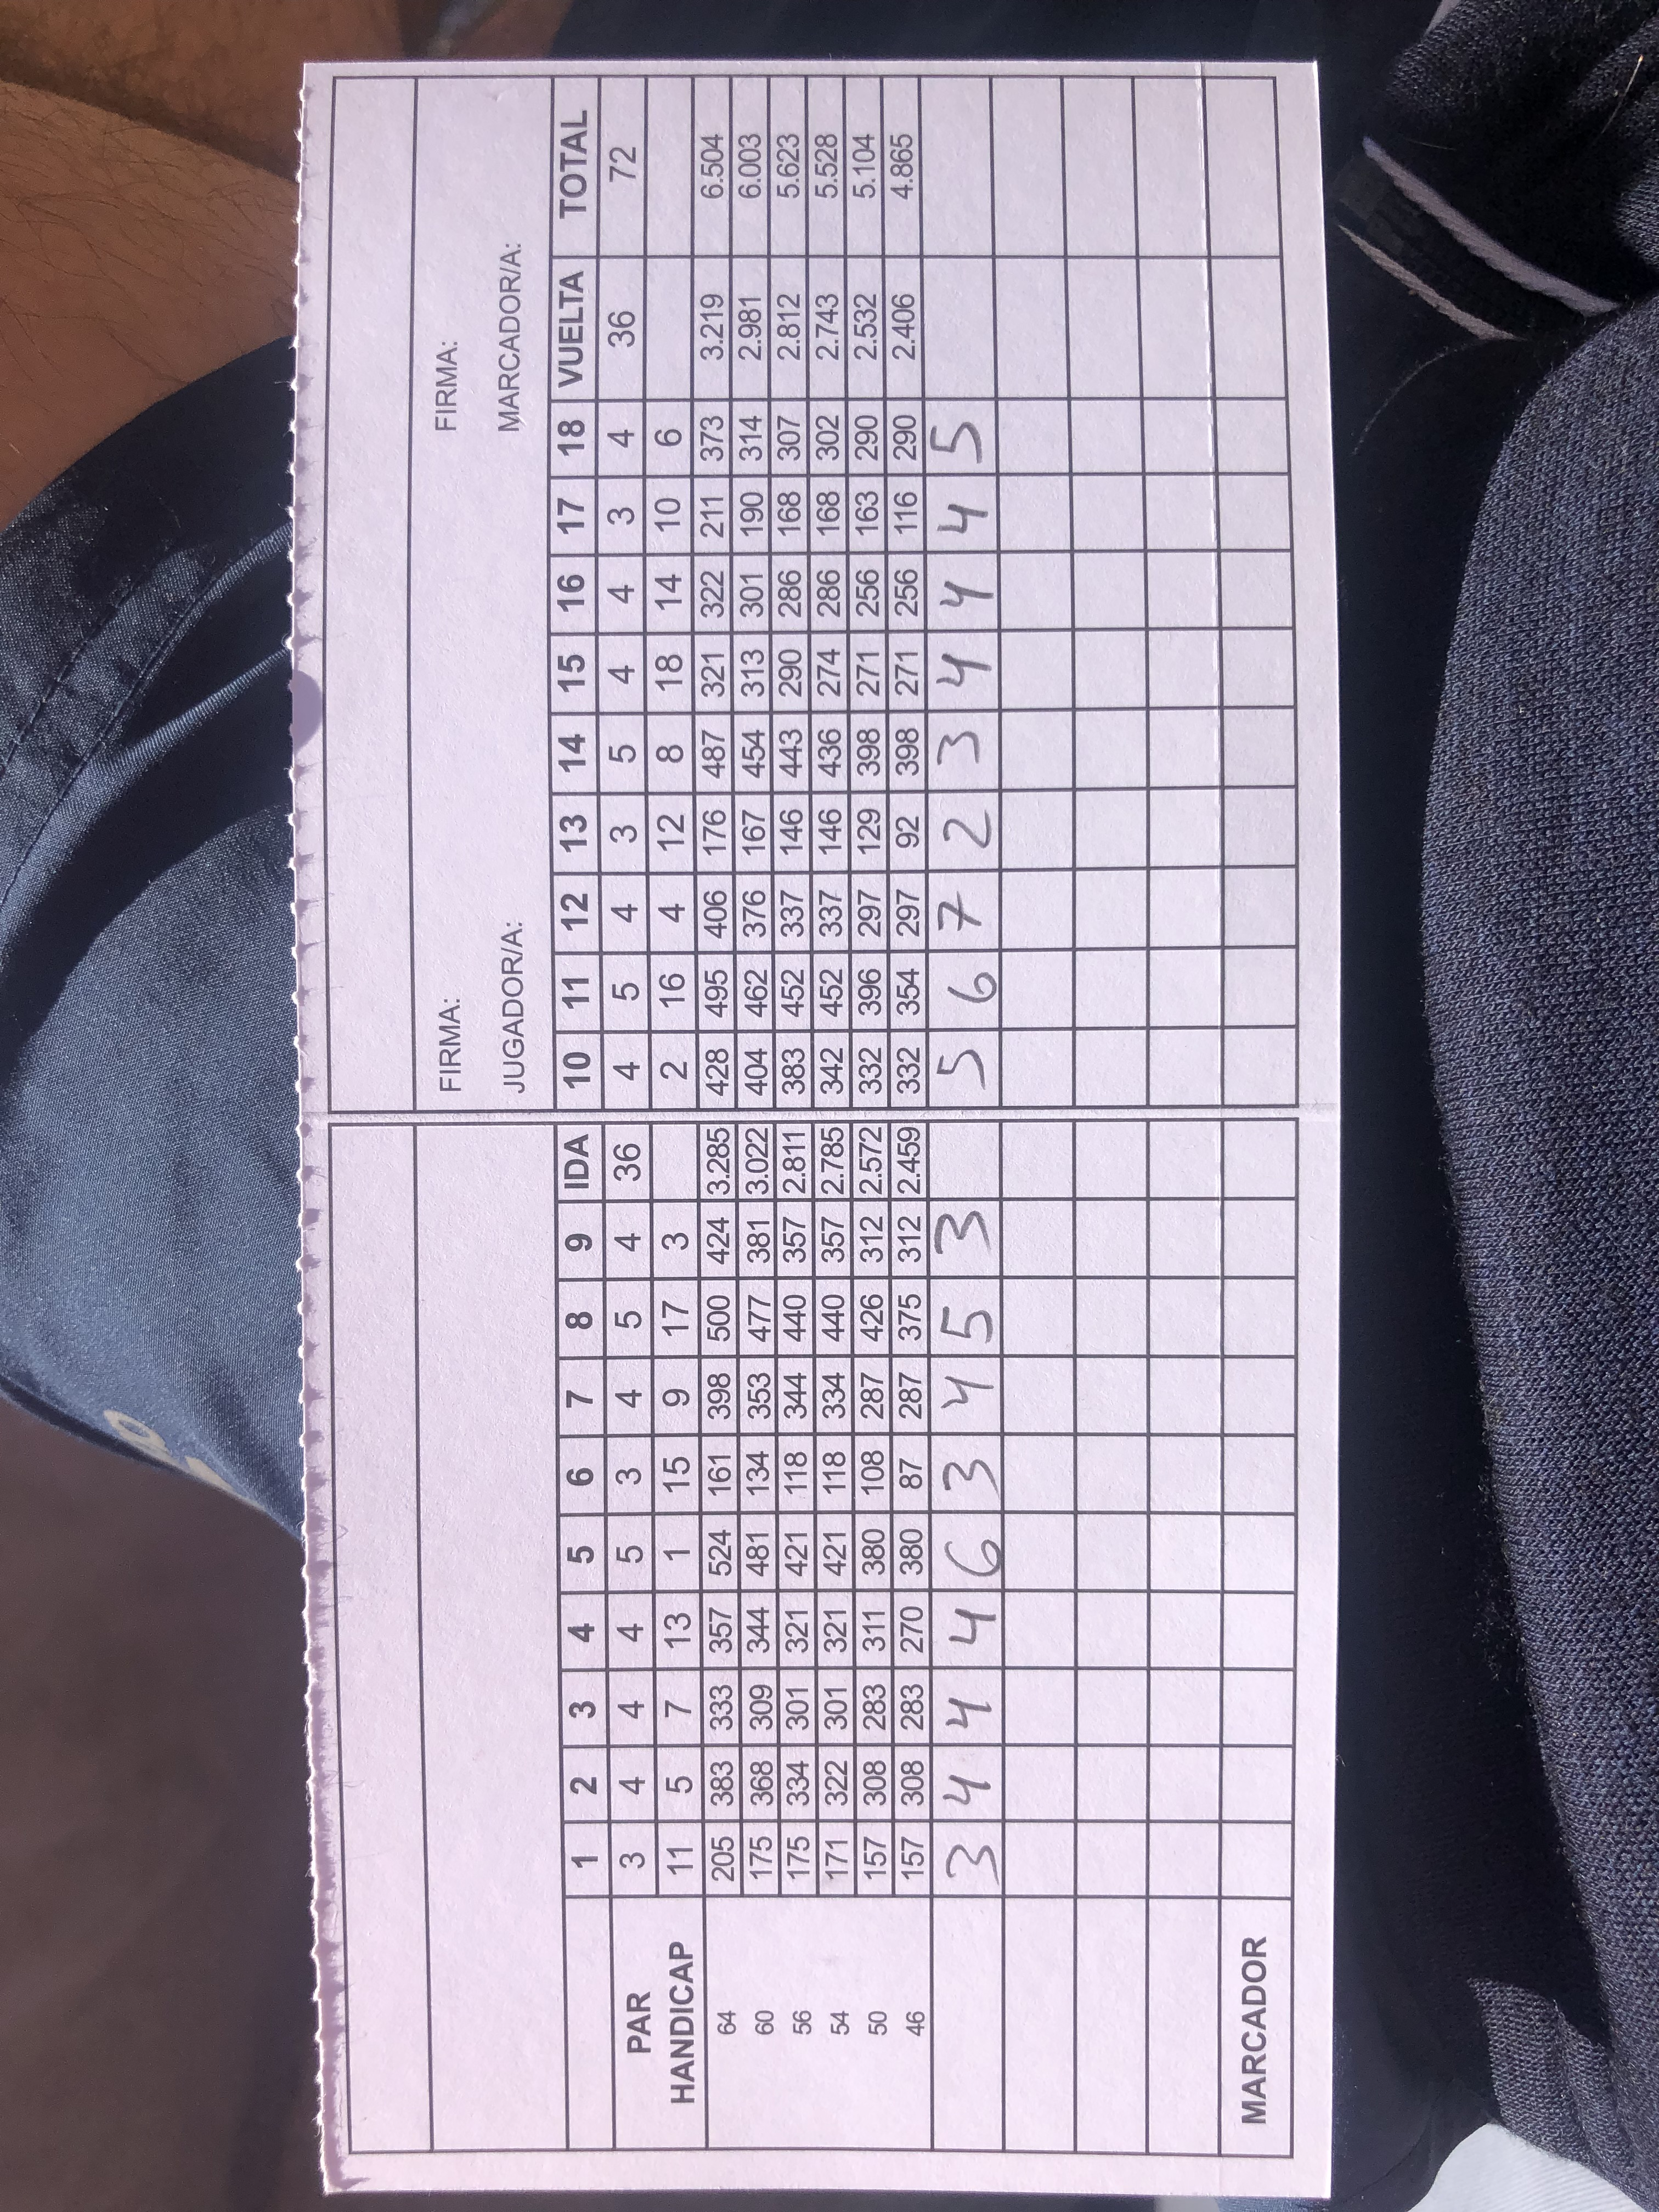par: (606, 139, 650, 2055)
score: (932, 402, 1004, 1883)
